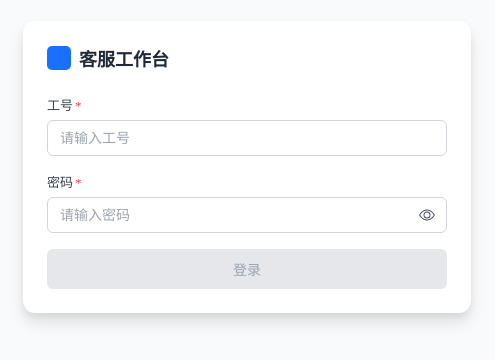
Test: LoginView — error state（States 矩阵 error） › 登录失败：两输入框错误态环 + 错误文案「工号或密码错误」
Type "1001" into the field with test id "employee-id-input". click: (247, 138)
box: top-left (47, 120), bottom-right (447, 156)
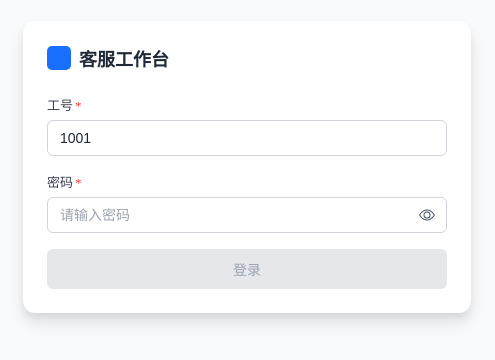
Type "agent123" into the password field with test id "password-input". click: (247, 215)
box: top-left (47, 197), bottom-right (447, 233)
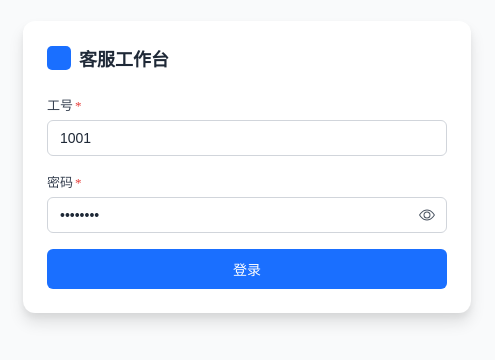
Submit the form with test id "login-form", box top-left (47, 95), bottom-right (447, 289)
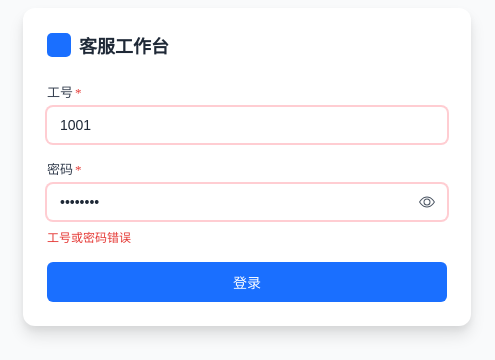
Check: the text with test id "login-error" reads "工号或密码错误", box top-left (47, 231), bottom-right (131, 245)
